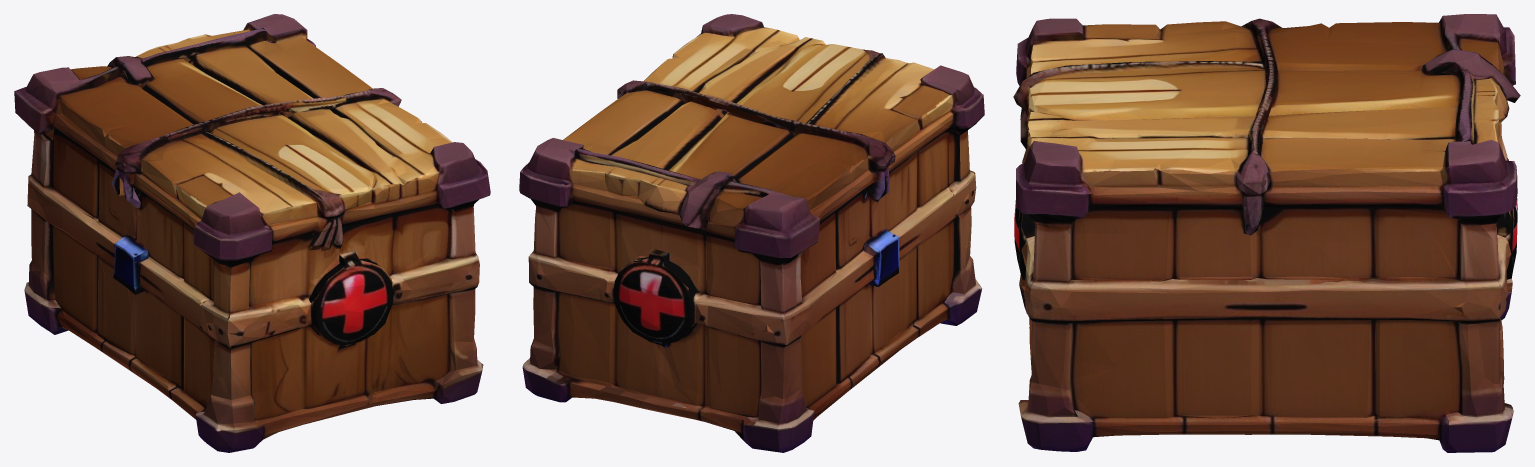
The model's file is crate.glb.
3 renders of one model, left to right at view 1: azimuth 30°, elevation 25°; view 2: azimuth 150°, elevation 25°; view 3: azimuth 270°, elevation 25°, orthographic. The views are drawn at different scales.
Parts seen in each view (by area): view 1: tmp5ey2rb3p.ply; view 2: tmp5ey2rb3p.ply; view 3: tmp5ey2rb3p.ply.
Boxes of the visible parts, box(x1,y1,x2,y2) form: tmp5ey2rb3p.ply: box(14, 14, 490, 452); tmp5ey2rb3p.ply: box(519, 14, 984, 452); tmp5ey2rb3p.ply: box(1013, 14, 1520, 452).
Bounding box in the file's own units: 1.54 × 1.31 × 2.
1 material, 1 textured.
